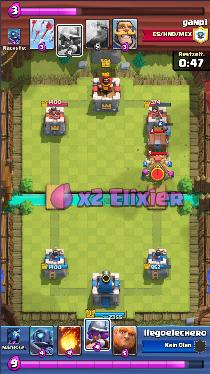ally_archer: (164, 169, 175, 181), (141, 168, 151, 180)
ally_goblin_cage: (147, 129, 169, 155)
ally_knight: (161, 124, 171, 137)
enemy_goblin_hut: (145, 157, 170, 181)
